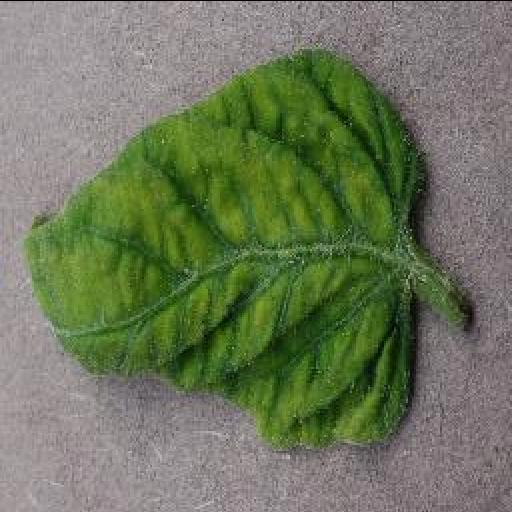disease_tomato: (18, 49, 420, 453)
